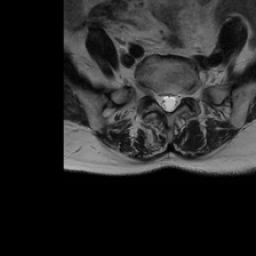CCS_normal: (166, 87, 171, 115)
LFS_normal: (181, 83, 187, 103)
LLS_normal: (172, 89, 180, 111)
RFS_normal: (152, 84, 159, 107)
RLS_normal: (159, 89, 166, 111)
